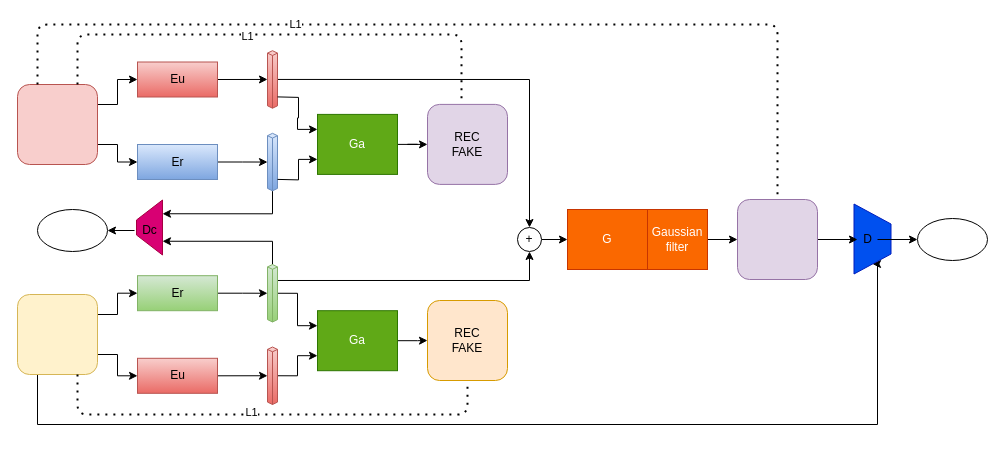
This 1005x450 diagram has some shape labels left out. Here are the shapes that lost their labels. From the top down, the box of each, then its label:
(16, 84, 98, 164): FAKE
(36, 208, 108, 252): classify loss
(736, 198, 818, 280): ADV FAKE
(916, 218, 988, 260): adv loss
(16, 294, 98, 374): REAL
